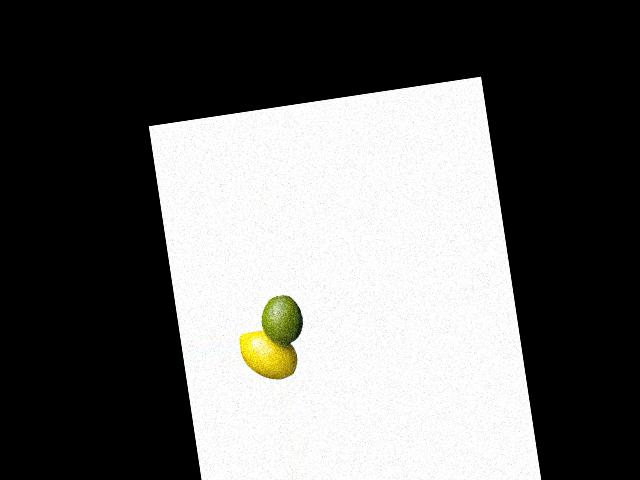lemon: (250, 291, 309, 357)
